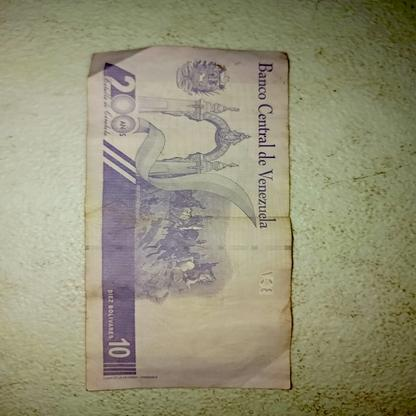ten-back-vef: (82, 47, 294, 392)
